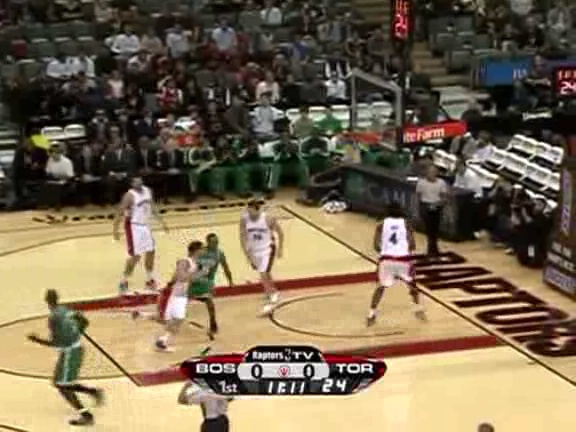person: (188, 233, 222, 314), (187, 233, 221, 314), (189, 233, 223, 314), (188, 232, 222, 313), (188, 234, 222, 315)
target_negative: (133, 15, 193, 227), (431, 216, 523, 351), (425, 189, 470, 421), (535, 130, 574, 290), (383, 336, 554, 366)
